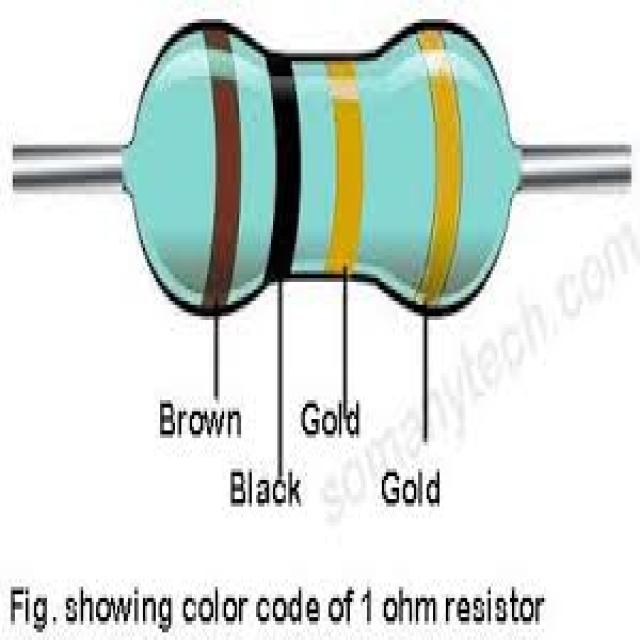Resistor: (124, 23, 518, 312)
black: (199, 0, 253, 339), (261, 42, 300, 304)
brown: (197, 16, 241, 339)
gold: (416, 23, 465, 319), (329, 42, 366, 289)
